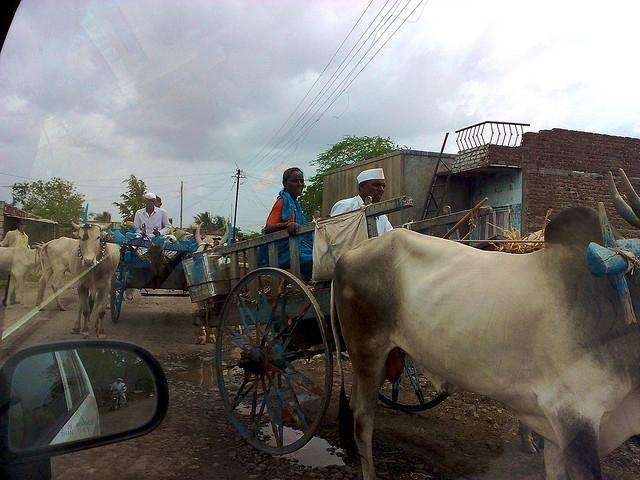car: (0, 333, 168, 479)
